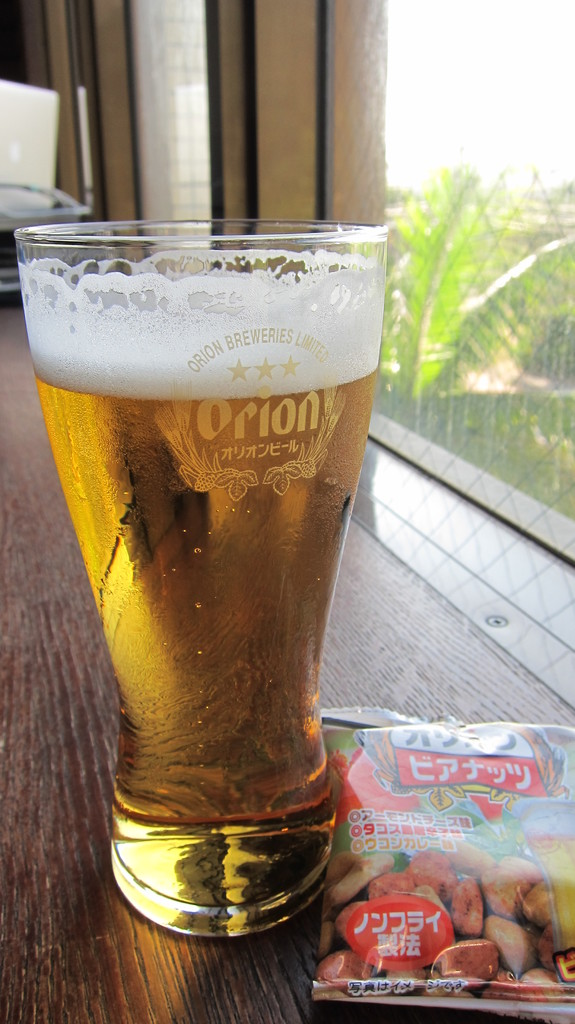Beer: (16, 240, 383, 929)
